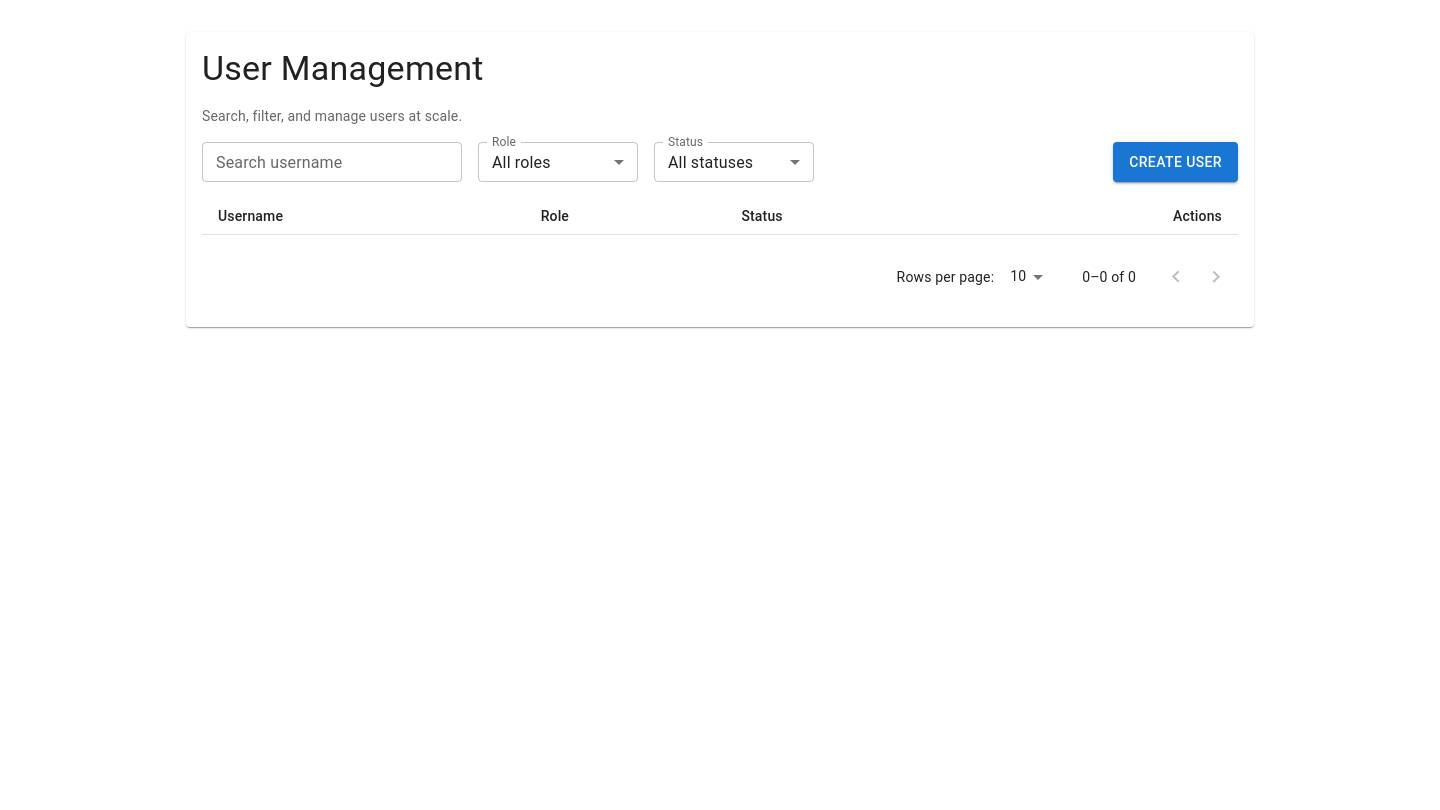
AdminUsersPage › requires matching passwords for create dialog
The width and height of the screenshot is (1440, 810).
Step 1. Click the button "Create User" → point(1176, 162), box [1113, 142, 1238, 182]
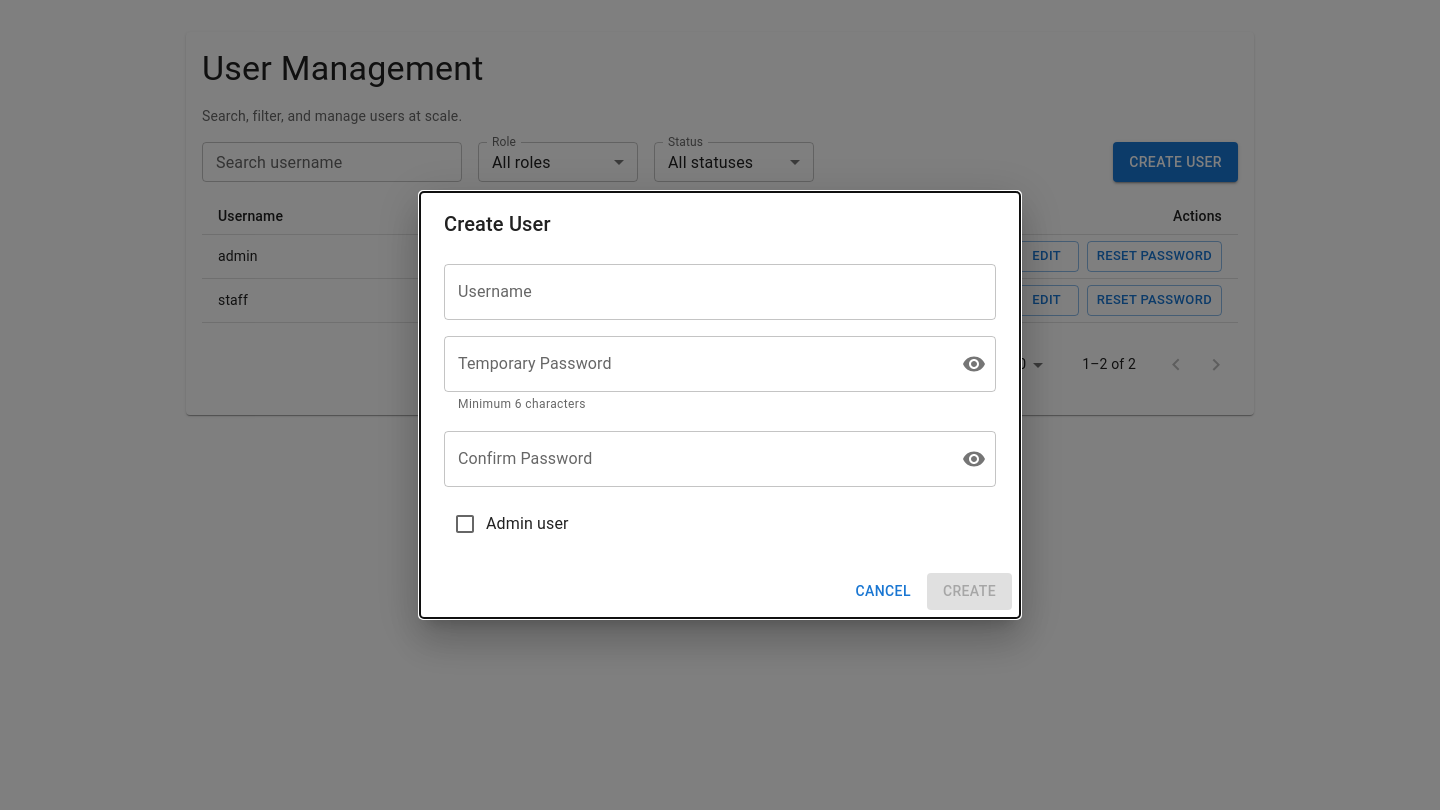
Step 2. Type "mismatch-user" into the field labelled "Username" → point(720, 292), box [444, 264, 996, 320]
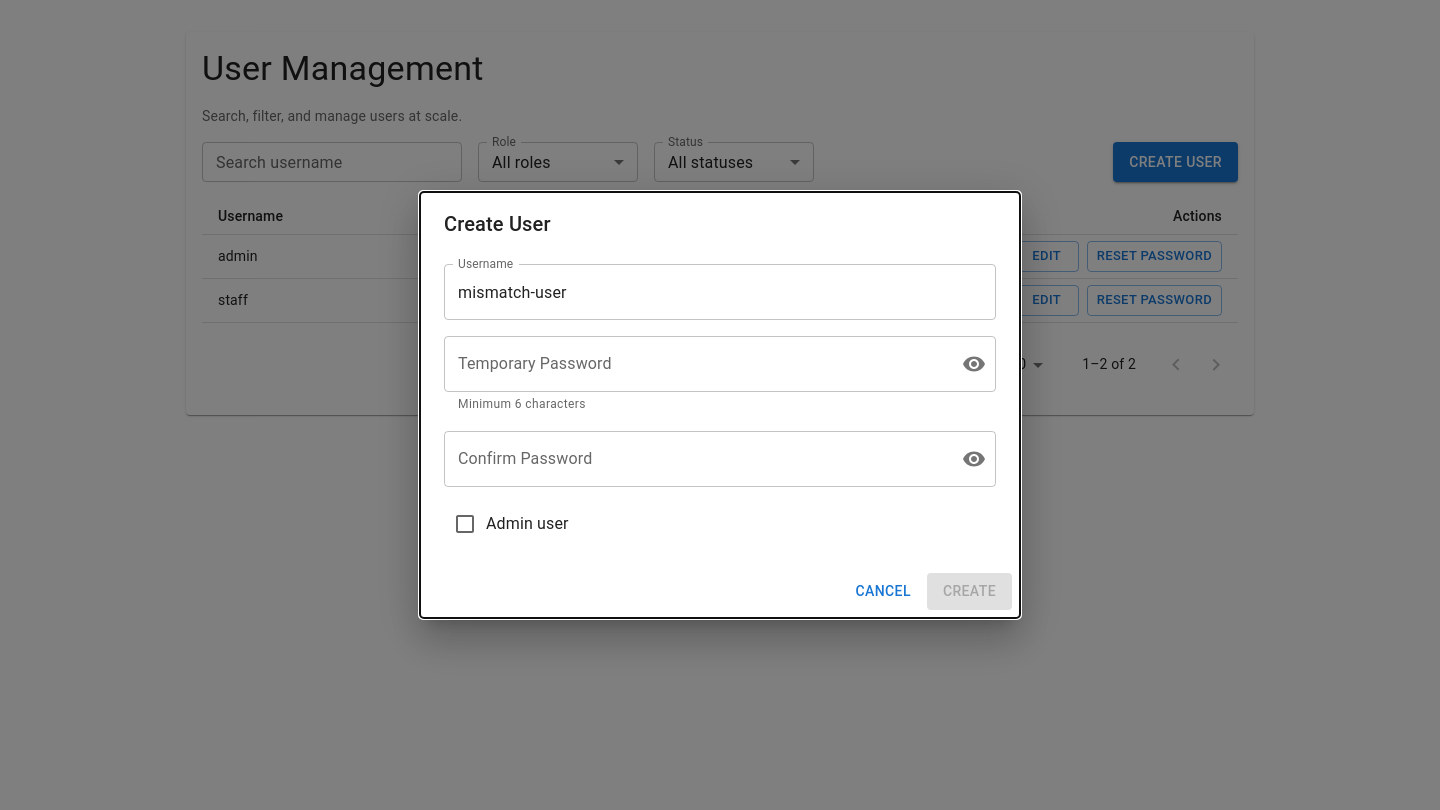
Step 3. Type "pass1234" into the password field labelled "Temporary Password" → point(695, 364), box [444, 336, 946, 392]
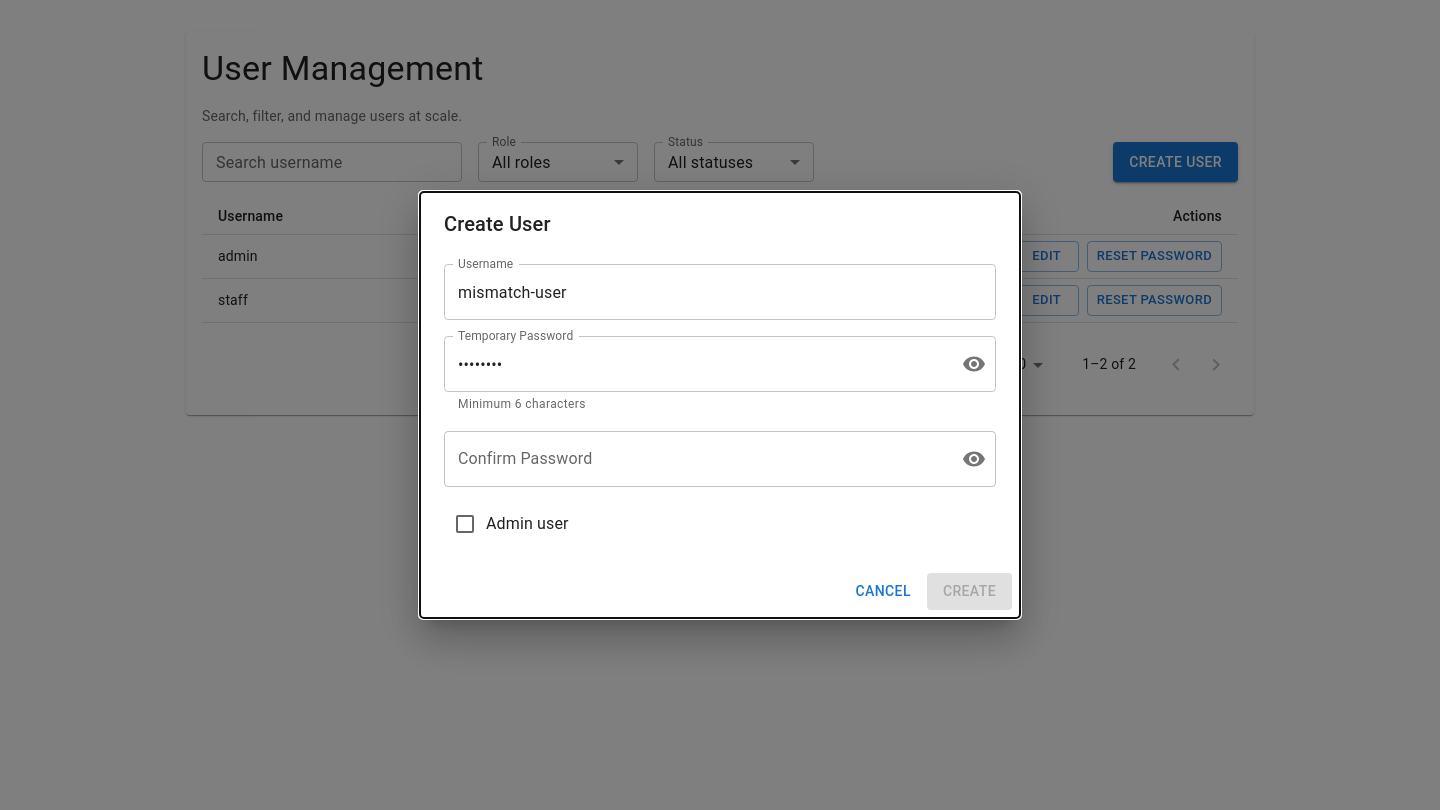
Step 4. Type "different-pass" into the password field labelled "Confirm Password" → point(695, 459), box [444, 431, 946, 487]
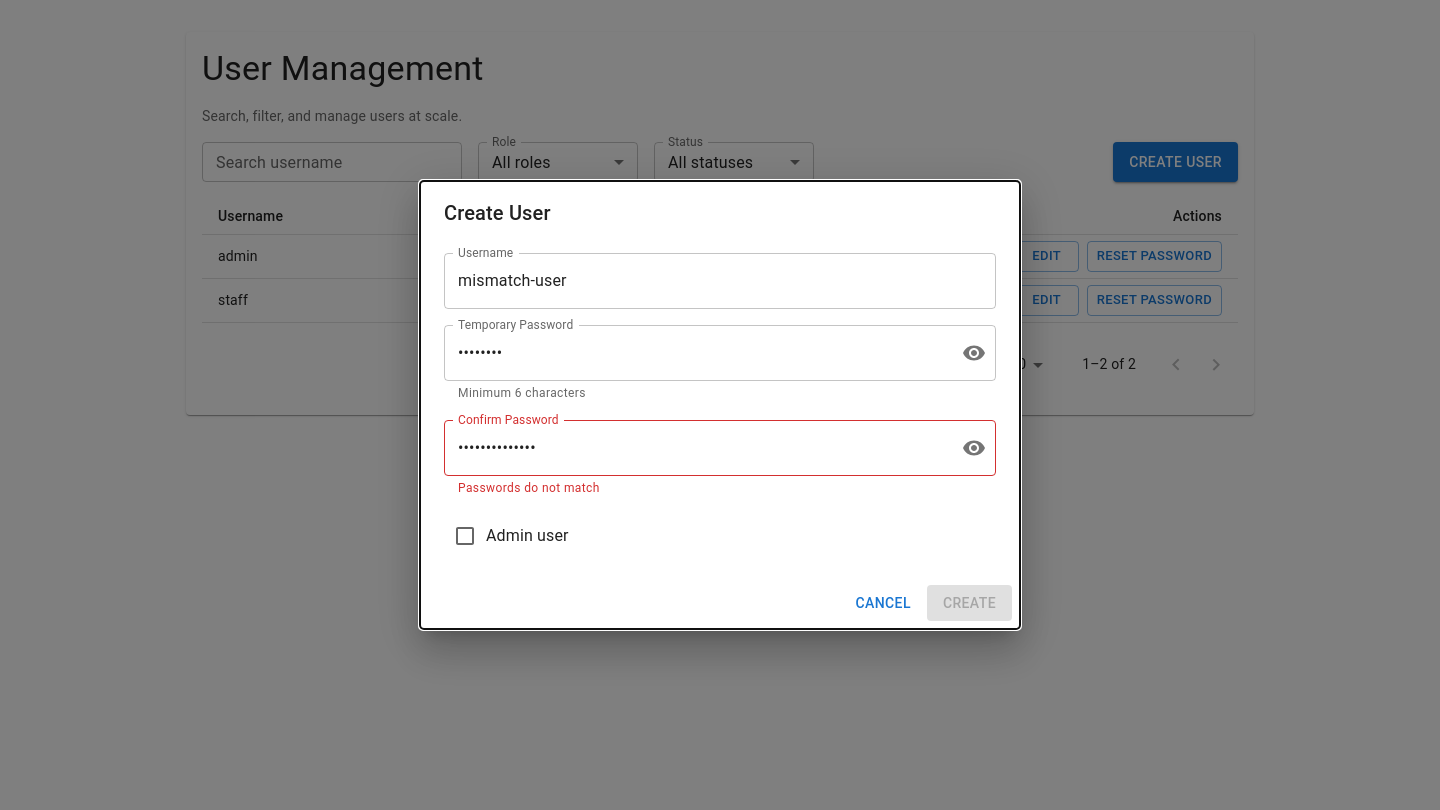
Check: the button "Create" is disabled, box [927, 585, 1012, 621]
Check: the text "Passwords do not match" is shown, box [458, 481, 600, 495]
